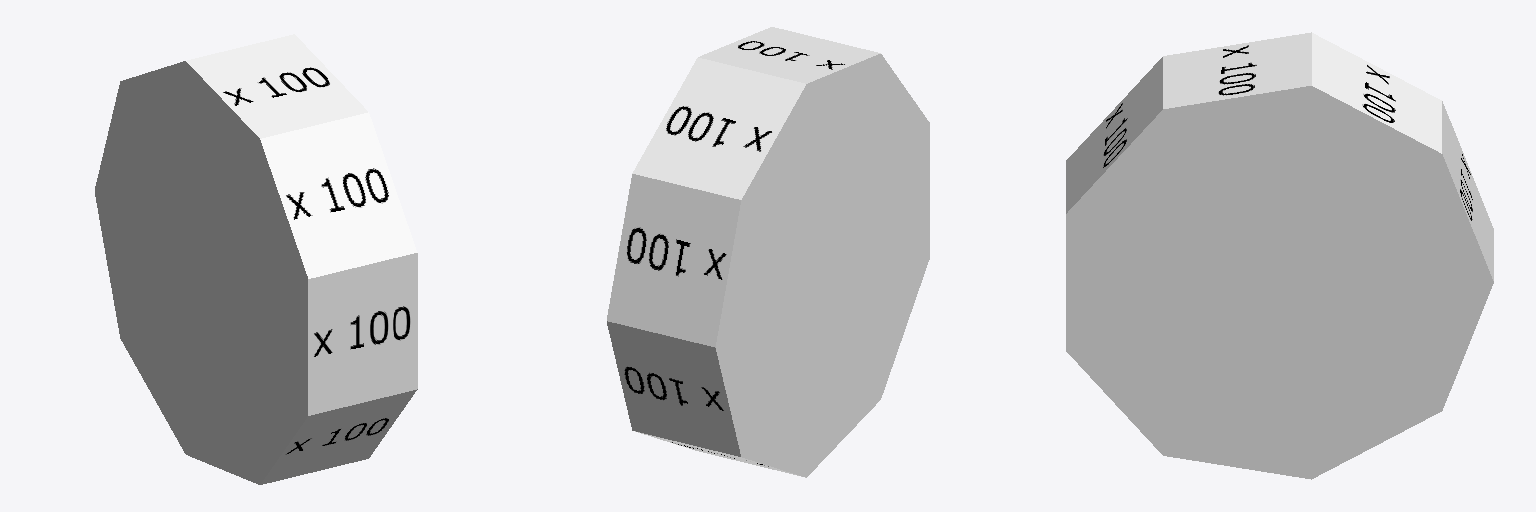
3 views of the same model, side by side, from view 1: azimuth 30°, elevation 25°; view 2: azimuth 150°, elevation 25°; view 3: azimuth 270°, elevation 25° (orthographic).
Parts seen in each view (by area): view 1: pCylinder2; view 2: pCylinder2; view 3: pCylinder2.
Part boxes in pixels (left/top/right/bottom): pCylinder2: left=95, top=34, right=417, bottom=484; pCylinder2: left=607, top=27, right=929, bottom=477; pCylinder2: left=1066, top=32, right=1493, bottom=479.
Bounding box in the file's own units: 0.3843 × 1.33 × 1.31.
1 materials, 1 textured.